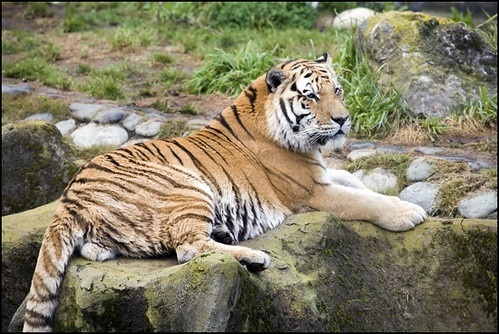tigre: (26, 50, 426, 291)
